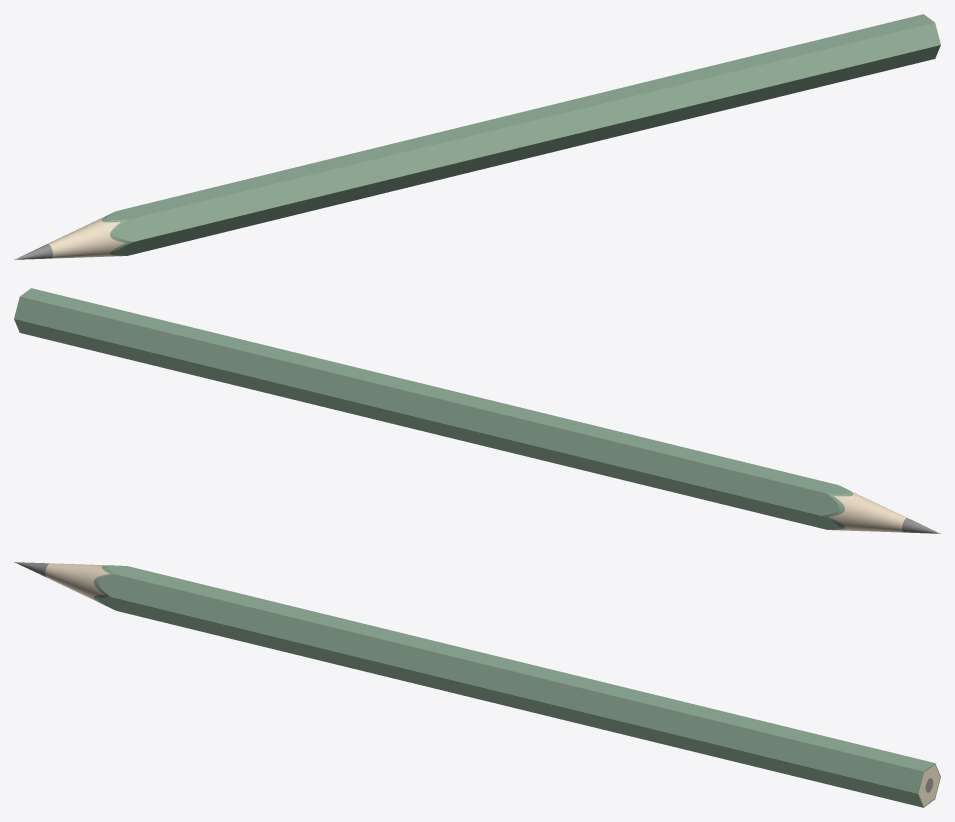
The model's file is 177_鉛筆削り済.glb.
The picture shows the model from 3 angles, top to bottom: view 1: azimuth 30°, elevation 25°; view 2: azimuth 150°, elevation 25°; view 3: azimuth 330°, elevation 25°; orthographic projection.
Parts seen in each view (by area): view 1: body; view 2: body; view 3: body.
Boxes of the visible parts, x1,y1,x2,y2 form: body: [14, 14, 940, 259]; body: [14, 288, 940, 533]; body: [14, 562, 940, 807].
Size of the model in its own units: 0.176 by 0.00667 by 0.0077.
